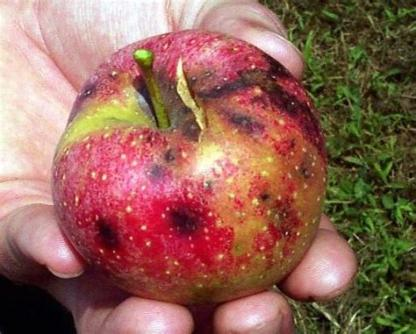defect: (81, 152, 334, 300), (171, 30, 314, 146), (72, 63, 136, 109)
